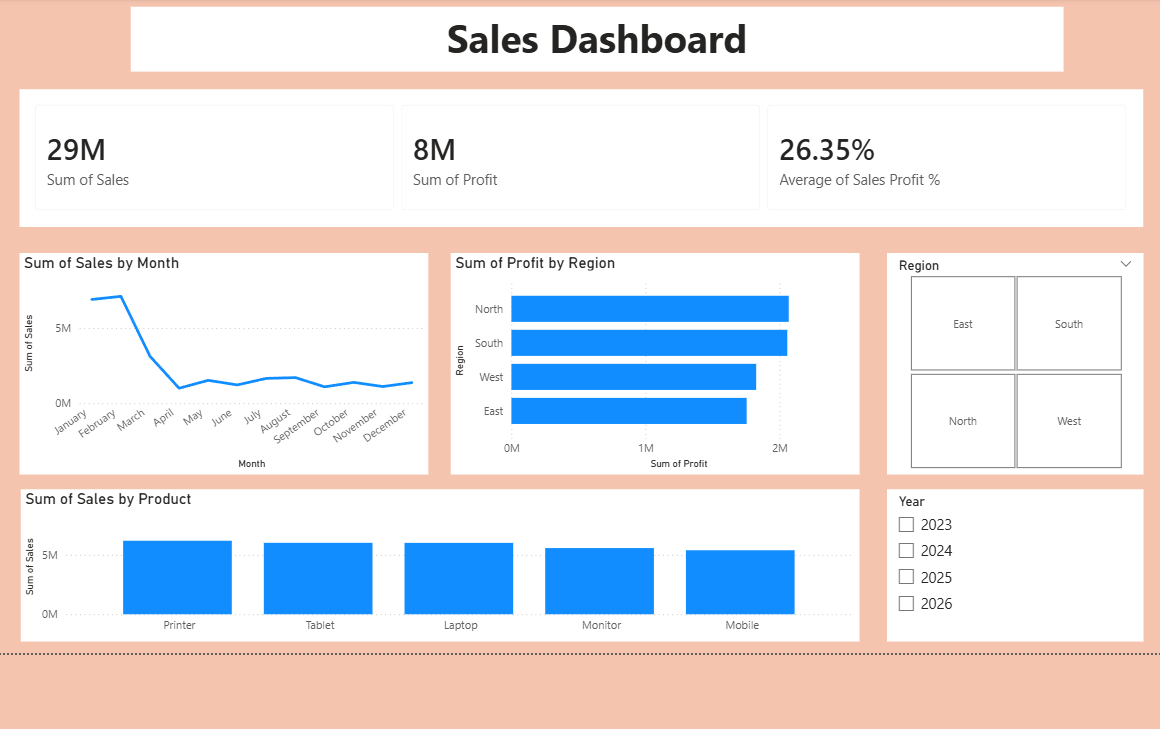

What the dashboard file says about the page in this screenshot:
{"tool":"powerbi","page":{"name":"Page 1","canvas":[1280,720],"ordinal":0},"visuals":[{"type":"cardVisual","fields":{"Data":["Sum(salesdb sales_data.Sales)","Sum(salesdb sales_data.Profit)","Avg(salesdb sales_data.Sales Profit %)"]},"box":[24.7,100.2,1233.6,150.9],"z":0},{"type":"lineChart","fields":{"Y":["Sum(salesdb sales_data.Sales)"],"Category":["salesdb sales_data.Order_Date.Variation.Date Hierarchy.Month"]},"box":[24.7,279.9,448.7,242.9],"z":1000},{"type":"barChart","fields":{"Category":["salesdb sales_data.Region"],"Y":["Sum(salesdb sales_data.Profit)"]},"box":[498.1,279.9,448.7,242.9],"z":2000},{"type":"columnChart","fields":{"Category":["salesdb sales_data.Product"],"Y":["Sum(salesdb sales_data.Sales)"]},"box":[26.1,539.3,920.8,167.4],"z":3000},{"type":"textbox","box":[146.8,9.6,1023.7,71.4],"z":4000},{"type":"slicer","fields":{"Values":["salesdb sales_data.Order_Date.Variation.Date Hierarchy.Year"]},"box":[977,539.3,281.3,167.4],"z":5000},{"type":"slicer","fields":{"Values":["salesdb sales_data.Region"]},"box":[977,279.9,281.3,242.9],"z":6000}]}

Visuals, with their boxes on the page's 1280x720 design canvas (x1, y1, x2, y2). These are canvas units, not pixel positions in the 1160x729 screenshot, which may show the page scaled, cropped or inside an application window:
cardVisual - Sum(salesdb sales_data.Sales) x Sum(salesdb sales_data.Profit): rect(25, 100, 1258, 251)
lineChart - Sum(salesdb sales_data.Sales) x salesdb sales_data.Order_Date.Variation.Date Hierarchy.Month: rect(25, 280, 473, 523)
barChart - salesdb sales_data.Region x Sum(salesdb sales_data.Profit): rect(498, 280, 947, 523)
columnChart - salesdb sales_data.Product x Sum(salesdb sales_data.Sales): rect(26, 539, 947, 707)
textbox: rect(147, 10, 1170, 81)
slicer - salesdb sales_data.Order_Date.Variation.Date Hierarchy.Year: rect(977, 539, 1258, 707)
slicer - salesdb sales_data.Region: rect(977, 280, 1258, 523)
